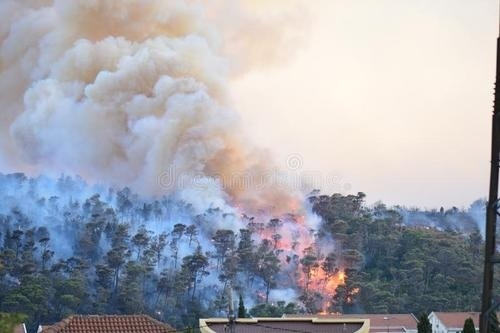fire: (253, 198, 361, 316)
